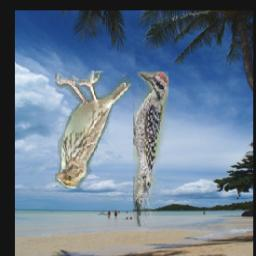Sparrow: (55, 70, 131, 189)
Woodpecker: (133, 72, 168, 227)
